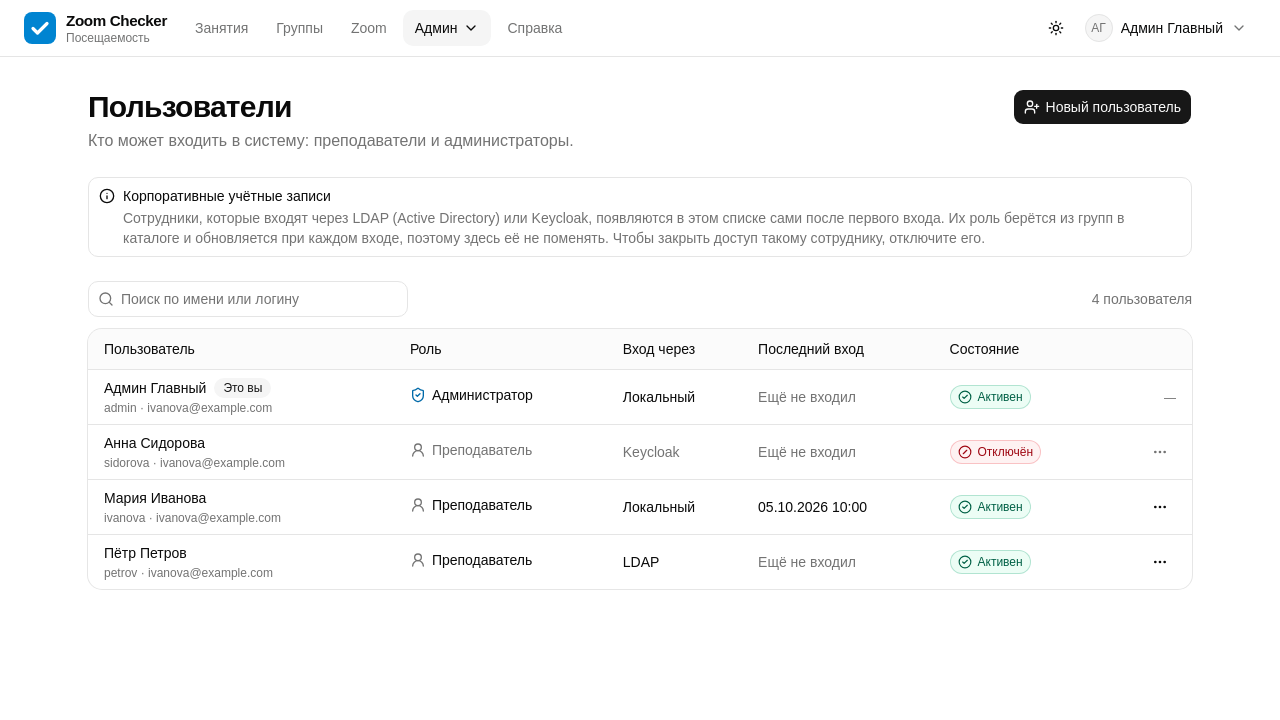
UsersPage › resets a local password and shows the new temporary password
Expected: the table is shown, [88,329,1192,588]
Click the button named "Действия: Мария Иванова" at (1160, 506), box [1144,490,1176,522]
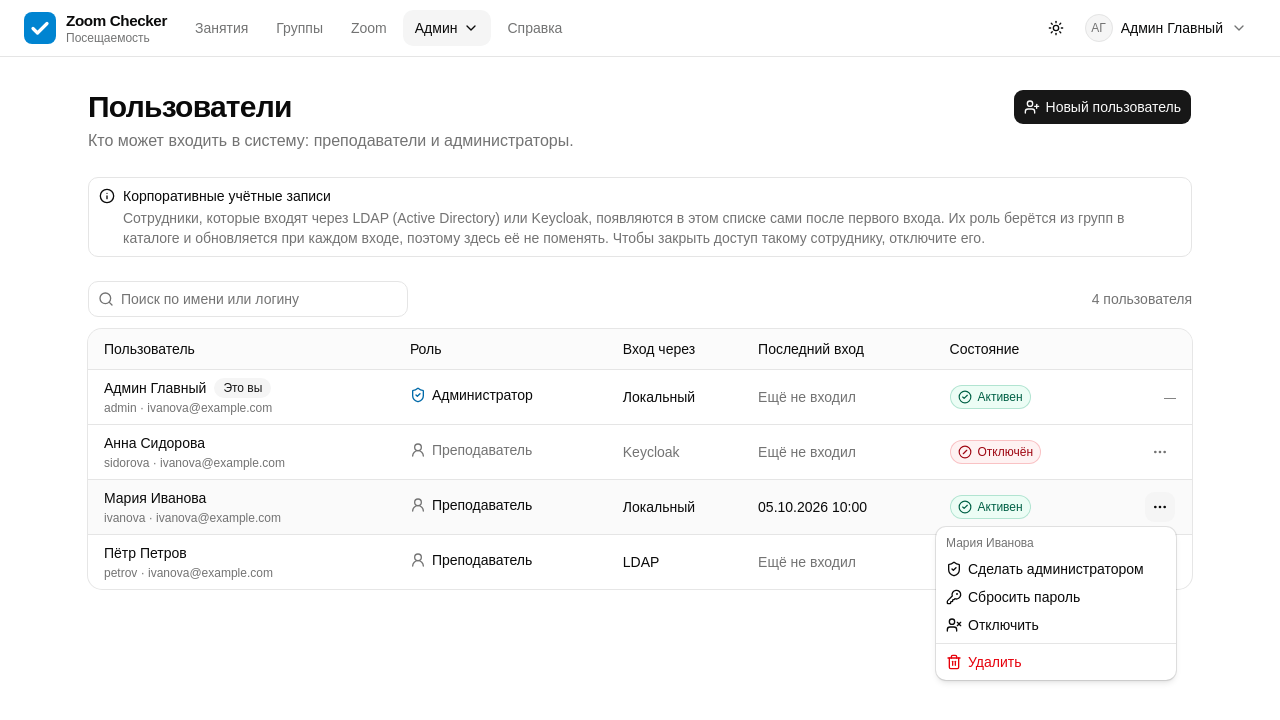
Click the menu item "Сбросить пароль" at (1013, 597), box [946,589,1080,605]
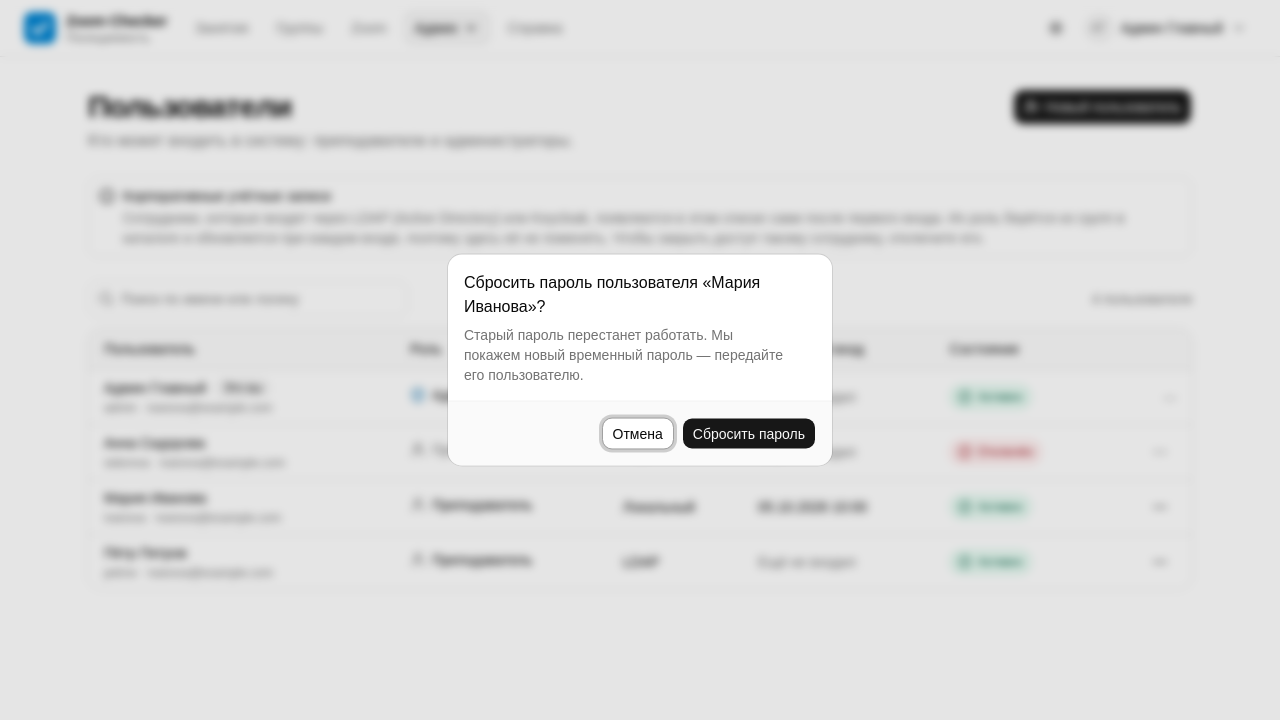
Expected: the heading "Сбросить пароль пользователя «Мария Иванова»?" is shown, [464,274,760,314]
Click the button "Сбросить пароль" at (749, 434), box [682,418,816,450]
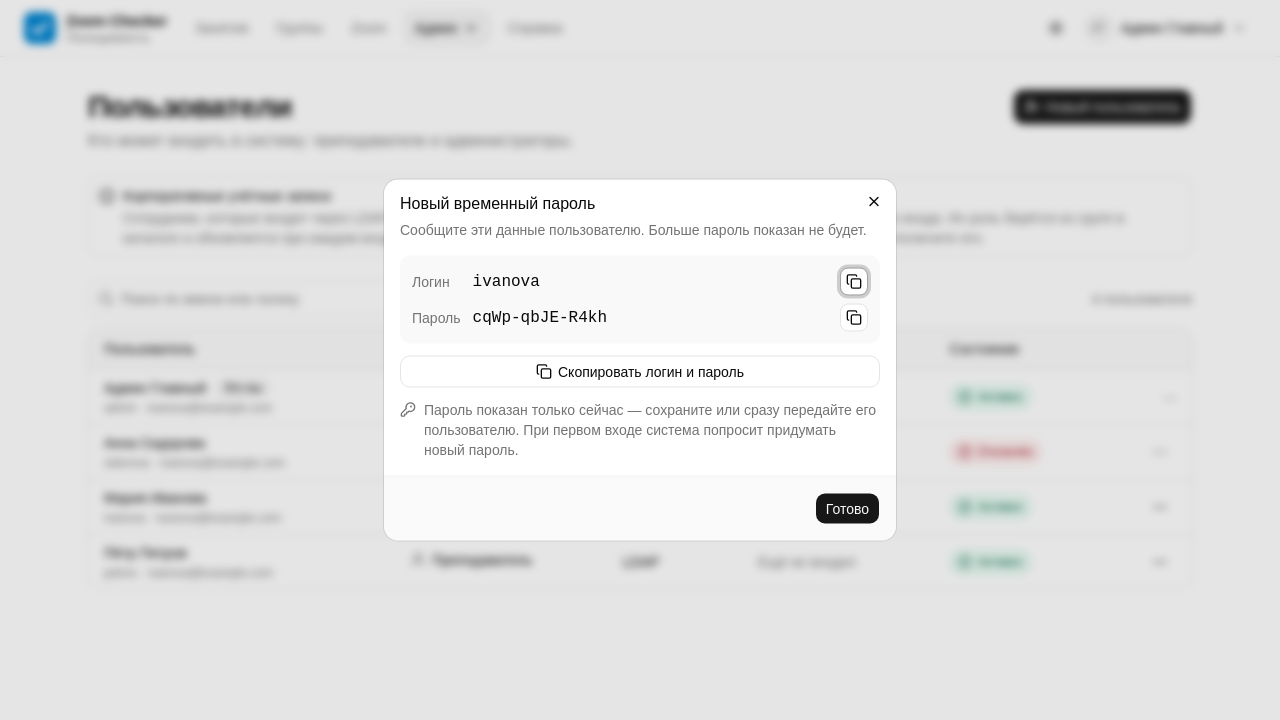
Expected: the text with test id "credentials-username" reads "ivanova", [473,272,540,290]
